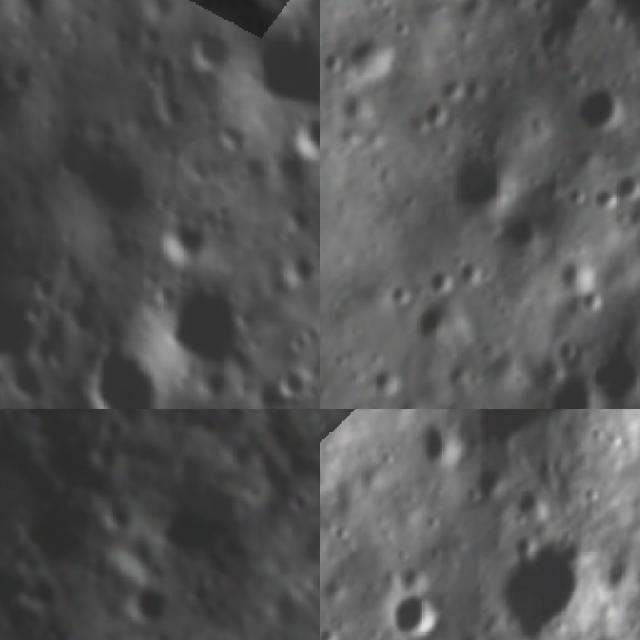crater: (138, 436, 252, 556), (489, 537, 602, 640), (48, 122, 156, 228), (158, 277, 261, 377), (240, 18, 320, 116), (76, 329, 168, 409), (449, 409, 615, 453), (114, 569, 188, 640), (448, 150, 519, 217), (0, 281, 46, 378), (156, 205, 220, 270), (572, 81, 627, 145), (592, 342, 640, 408), (387, 590, 447, 640), (345, 35, 403, 86), (188, 18, 239, 72), (499, 213, 554, 262), (414, 302, 464, 347), (547, 373, 603, 409), (0, 62, 25, 142), (285, 112, 320, 169), (267, 364, 311, 407), (416, 420, 452, 471), (556, 254, 600, 292), (457, 250, 493, 291), (438, 71, 475, 109), (371, 363, 407, 398), (531, 19, 565, 56), (421, 103, 452, 138), (427, 269, 458, 300), (612, 171, 640, 205), (320, 45, 347, 78), (580, 288, 605, 313), (563, 0, 606, 13)
